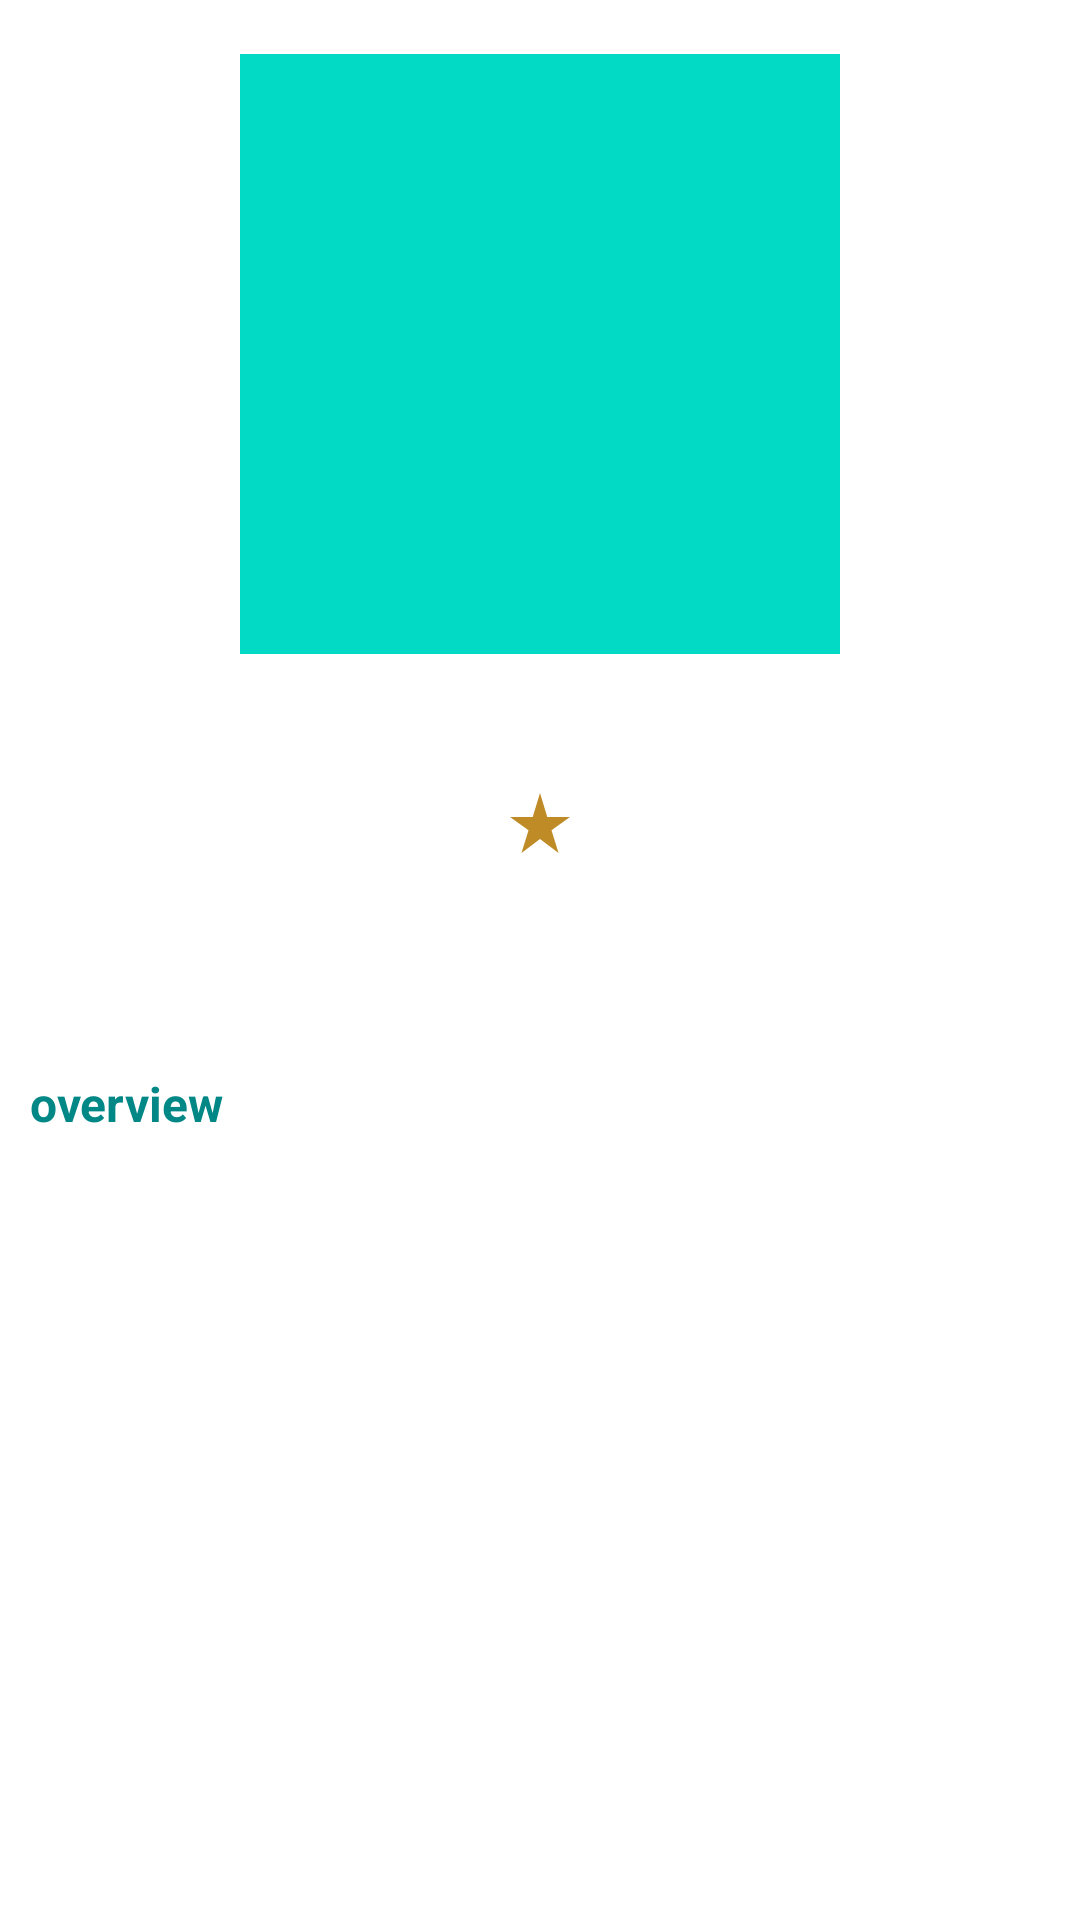

Icon bounding boxes for this 1080×1920 phone screenshot, format box=[x1, y1, x2, y2]:
star rate: box=[510, 793, 570, 853]
